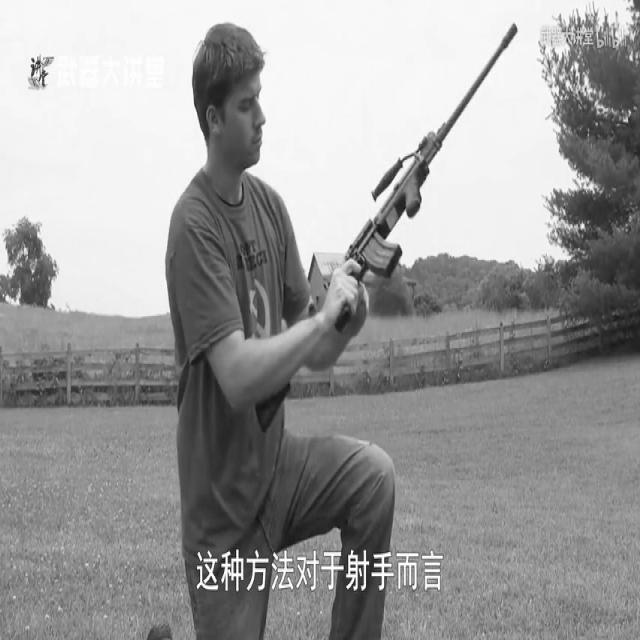Sniper: (250, 0, 552, 443)
